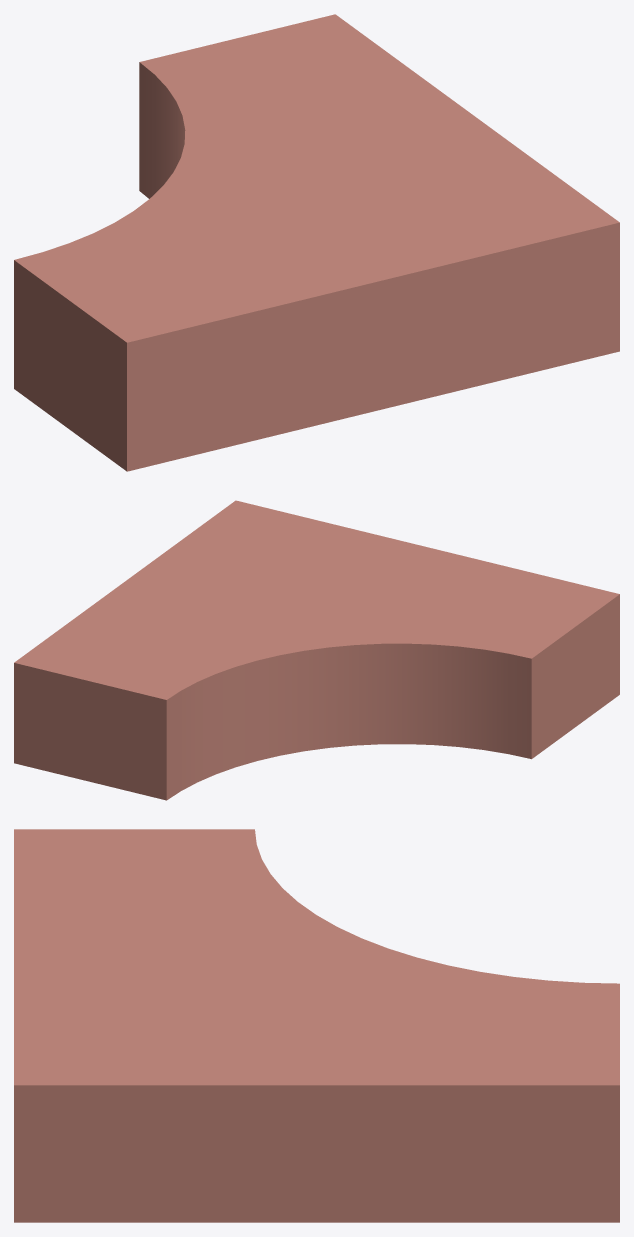
File: RoundCorner20x5.fbx
3 renders of one model, top to bottom at view 1: azimuth 30°, elevation 25°; view 2: azimuth 150°, elevation 25°; view 3: azimuth 270°, elevation 25°, orthographic. The views are drawn at different scales.
Visible parts, largest first — view 1: RoundCorner20x20.002; view 2: RoundCorner20x20.002; view 3: RoundCorner20x20.002.
Part boxes in pixels (bbox=[...]): RoundCorner20x20.002: bbox=[14, 14, 619, 471]; RoundCorner20x20.002: bbox=[14, 500, 619, 800]; RoundCorner20x20.002: bbox=[14, 829, 619, 1222].
Size of the model in its own units: 2000 by 500 by 2000.
